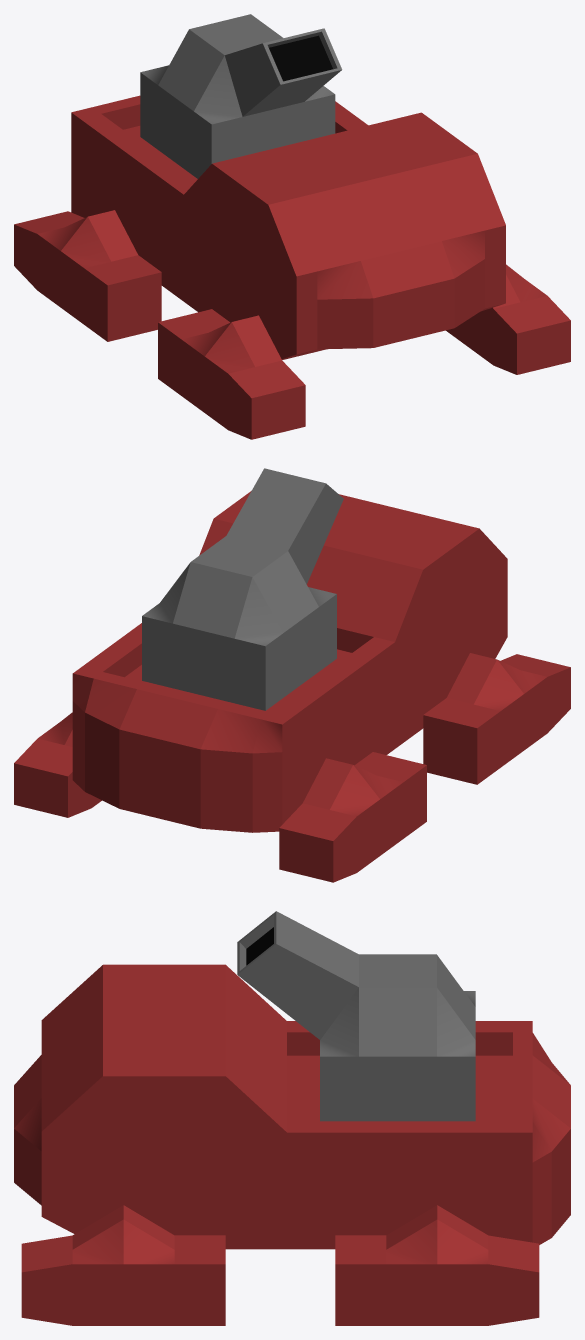
Rendered from artyEnemy01.fbx.
3 views of the same model, one above another, from view 1: azimuth 30°, elevation 25°; view 2: azimuth 150°, elevation 25°; view 3: azimuth 270°, elevation 25° (orthographic). The views are drawn at different scales.
Parts seen in each view (by area): view 1: body; view 2: body; view 3: body.
Boxes of the visible parts, x1=… form: body: x1=14, y1=14, x2=570, y2=439; body: x1=14, y1=468, x2=570, y2=882; body: x1=14, y1=911, x2=570, y2=1325.
Bounding box in the file's own units: 103 × 88.82 × 143.
